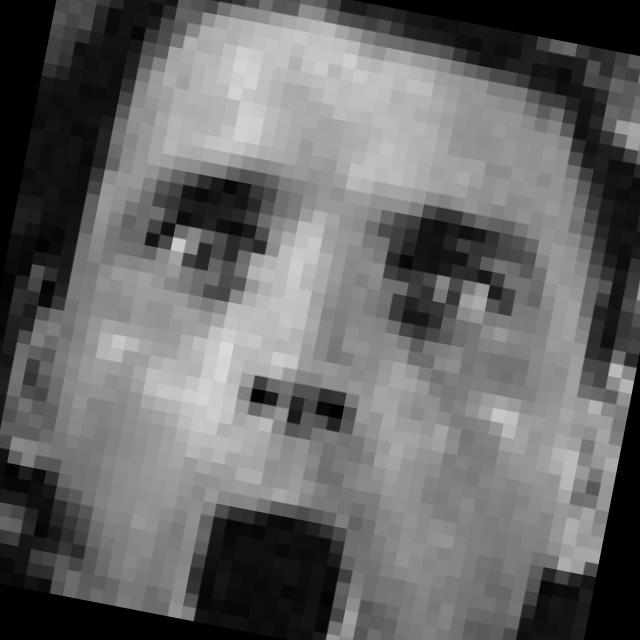surprise: (41, 134, 568, 640)
